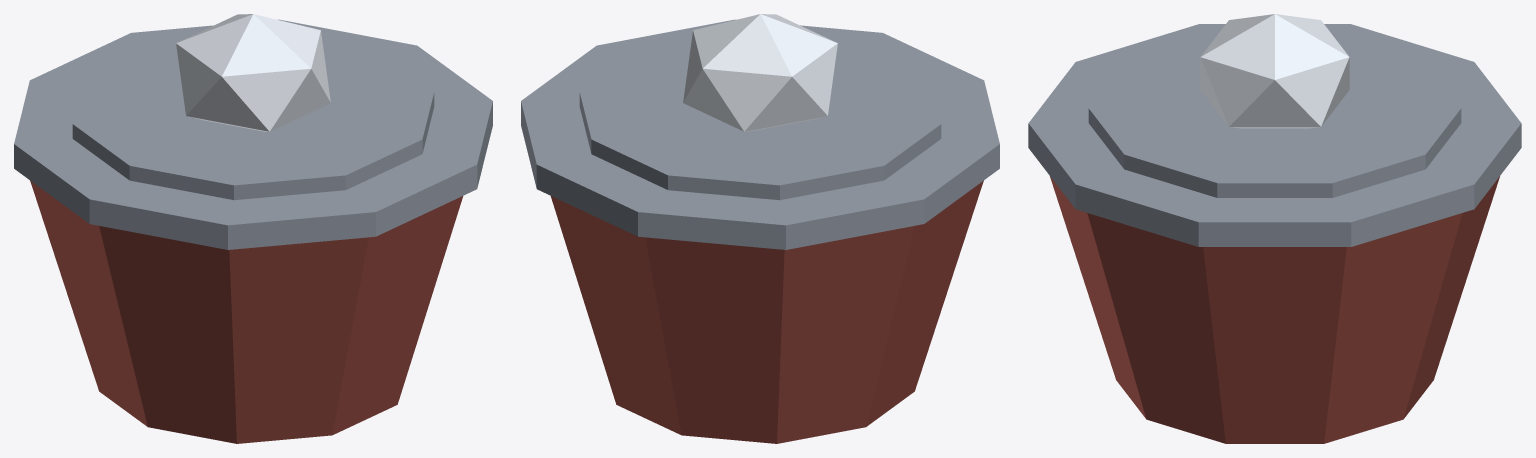
File: flower_pot.fbx
The picture shows the model from 3 angles, left to right: view 1: azimuth 30°, elevation 25°; view 2: azimuth 150°, elevation 25°; view 3: azimuth 270°, elevation 25°; orthographic projection.
Parts seen in each view (by area): view 1: flower_pot; view 2: flower_pot; view 3: flower_pot.
Boxes of the visible parts, x1,y1,x2,y2 form: flower_pot: [14, 14, 492, 443]; flower_pot: [521, 14, 999, 443]; flower_pot: [1028, 14, 1521, 443].
Bounding box in the file's own units: 295 × 254 × 310.
